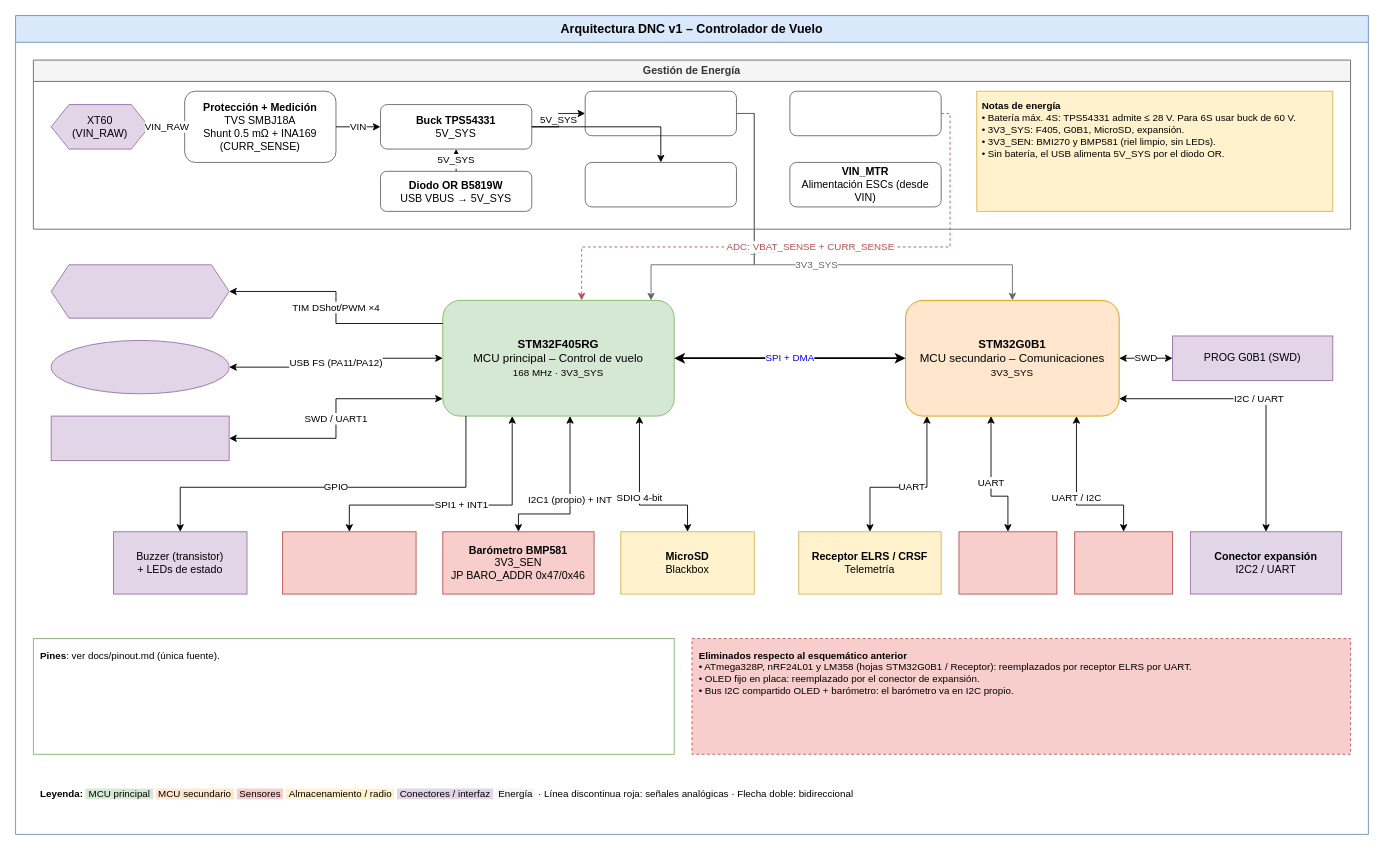
Image size: 1384x850. Some labels were removed from this diagram. Each missing label, with the centre of its shape:
Buck TPS62162 3V3_SYS: (x=660, y=113)
Conector ESC ×4 (MTR1–MTR4 + VIN_MTR): (x=139, y=291)
Divisor 10k / 1k VBAT_SENSE (desde VIN): (x=865, y=113)
GPS: (x=1007, y=562)
IMU BMI270 3V3_SEN: (x=349, y=562)
LDO LP5907 3V3_SEN (sensores, EN = PG del TPS62162): (x=660, y=184)
LiDAR: (x=1123, y=562)
PROG (SWD) DEBUG (UART1): (x=139, y=438)
USB-C + ESD USBLC6-2: (x=139, y=367)
